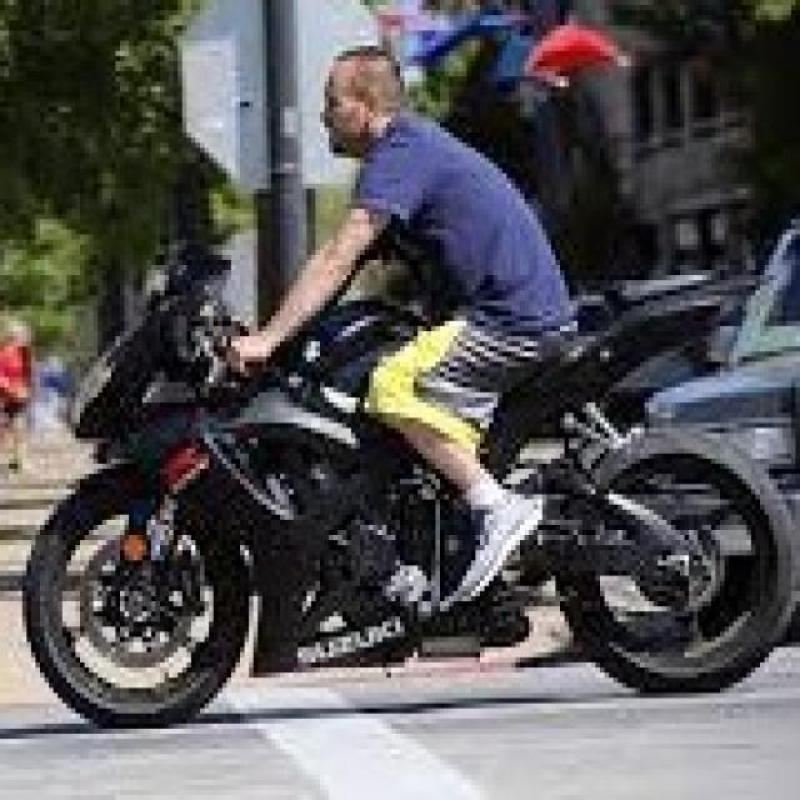nohelmet: (299, 34, 413, 198)
